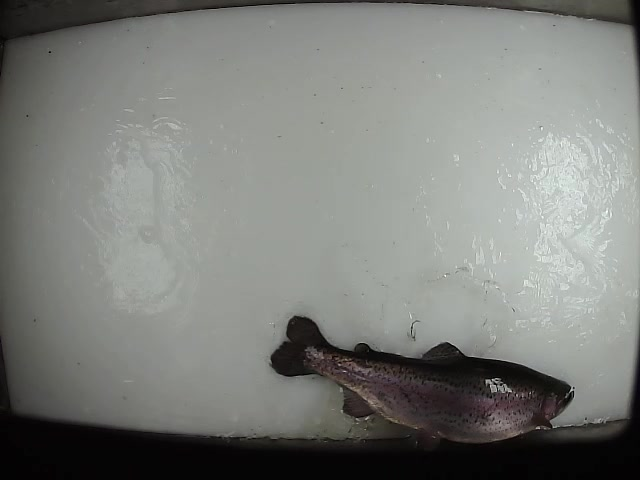fish: (268, 314, 576, 445)
